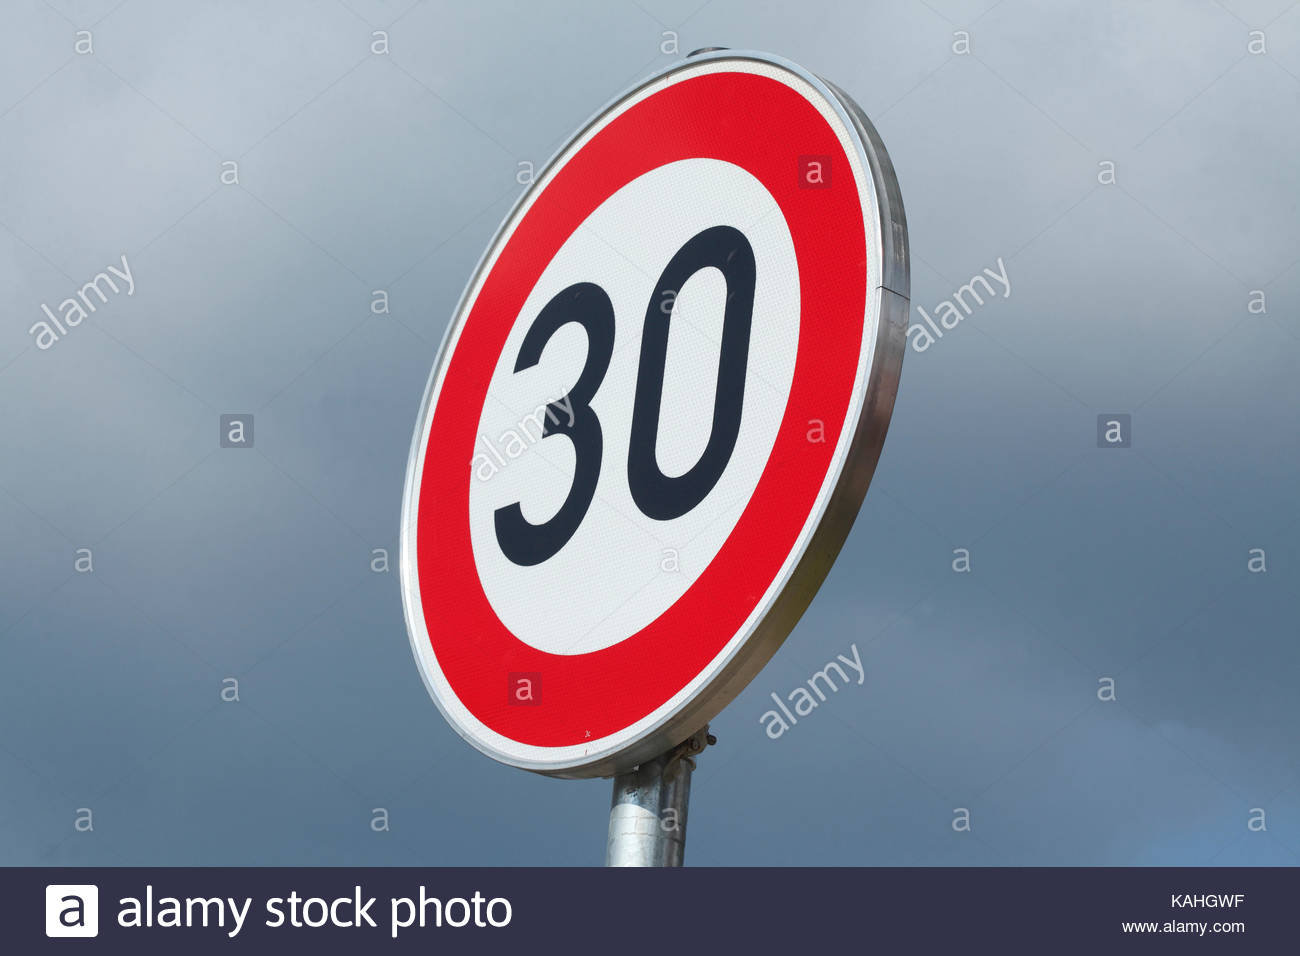Speed_limit_30km: (407, 63, 910, 767)
